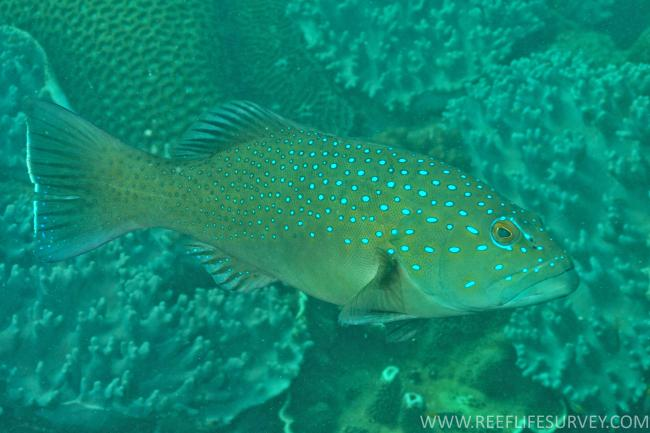fish: (23, 96, 580, 325)
